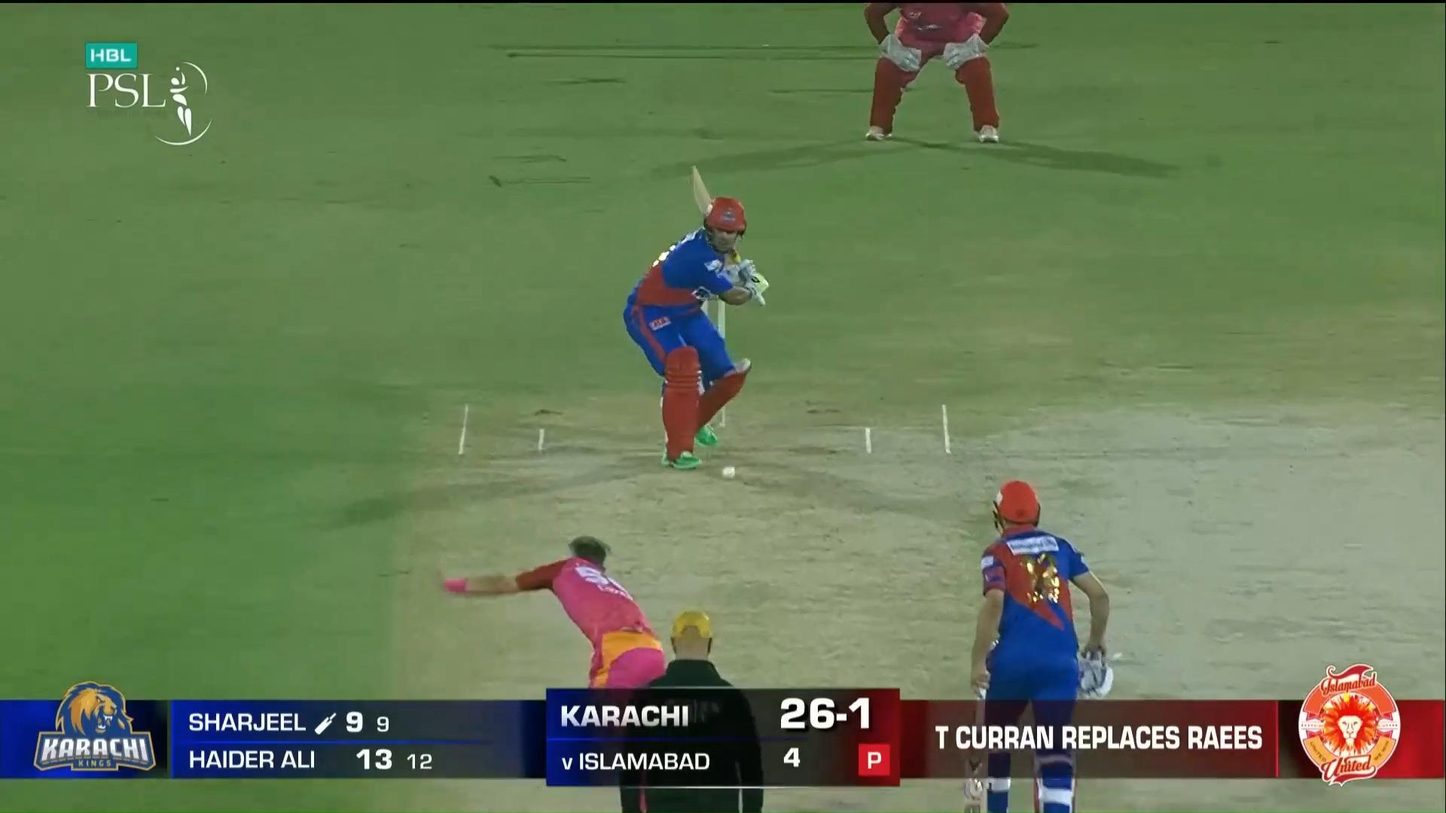batsman: (623, 164, 769, 469)
